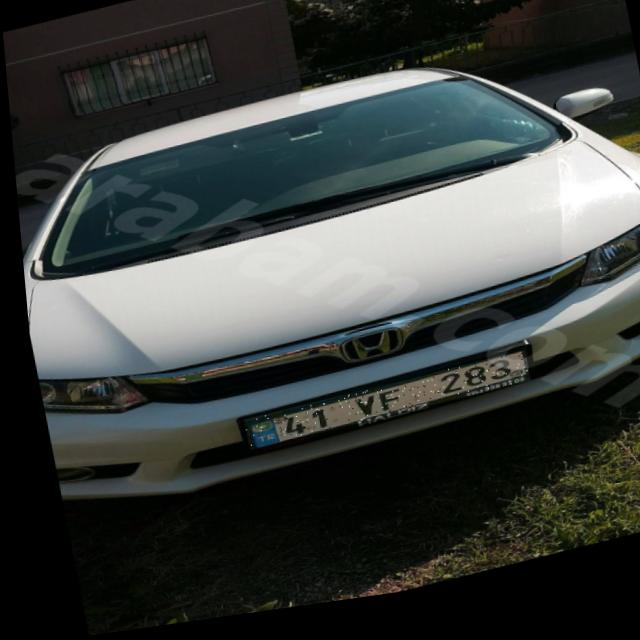license_plate: (233, 364, 524, 456)
